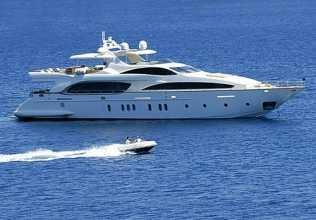otherboat: (116, 133, 159, 158)
yacht: (14, 25, 297, 121)
